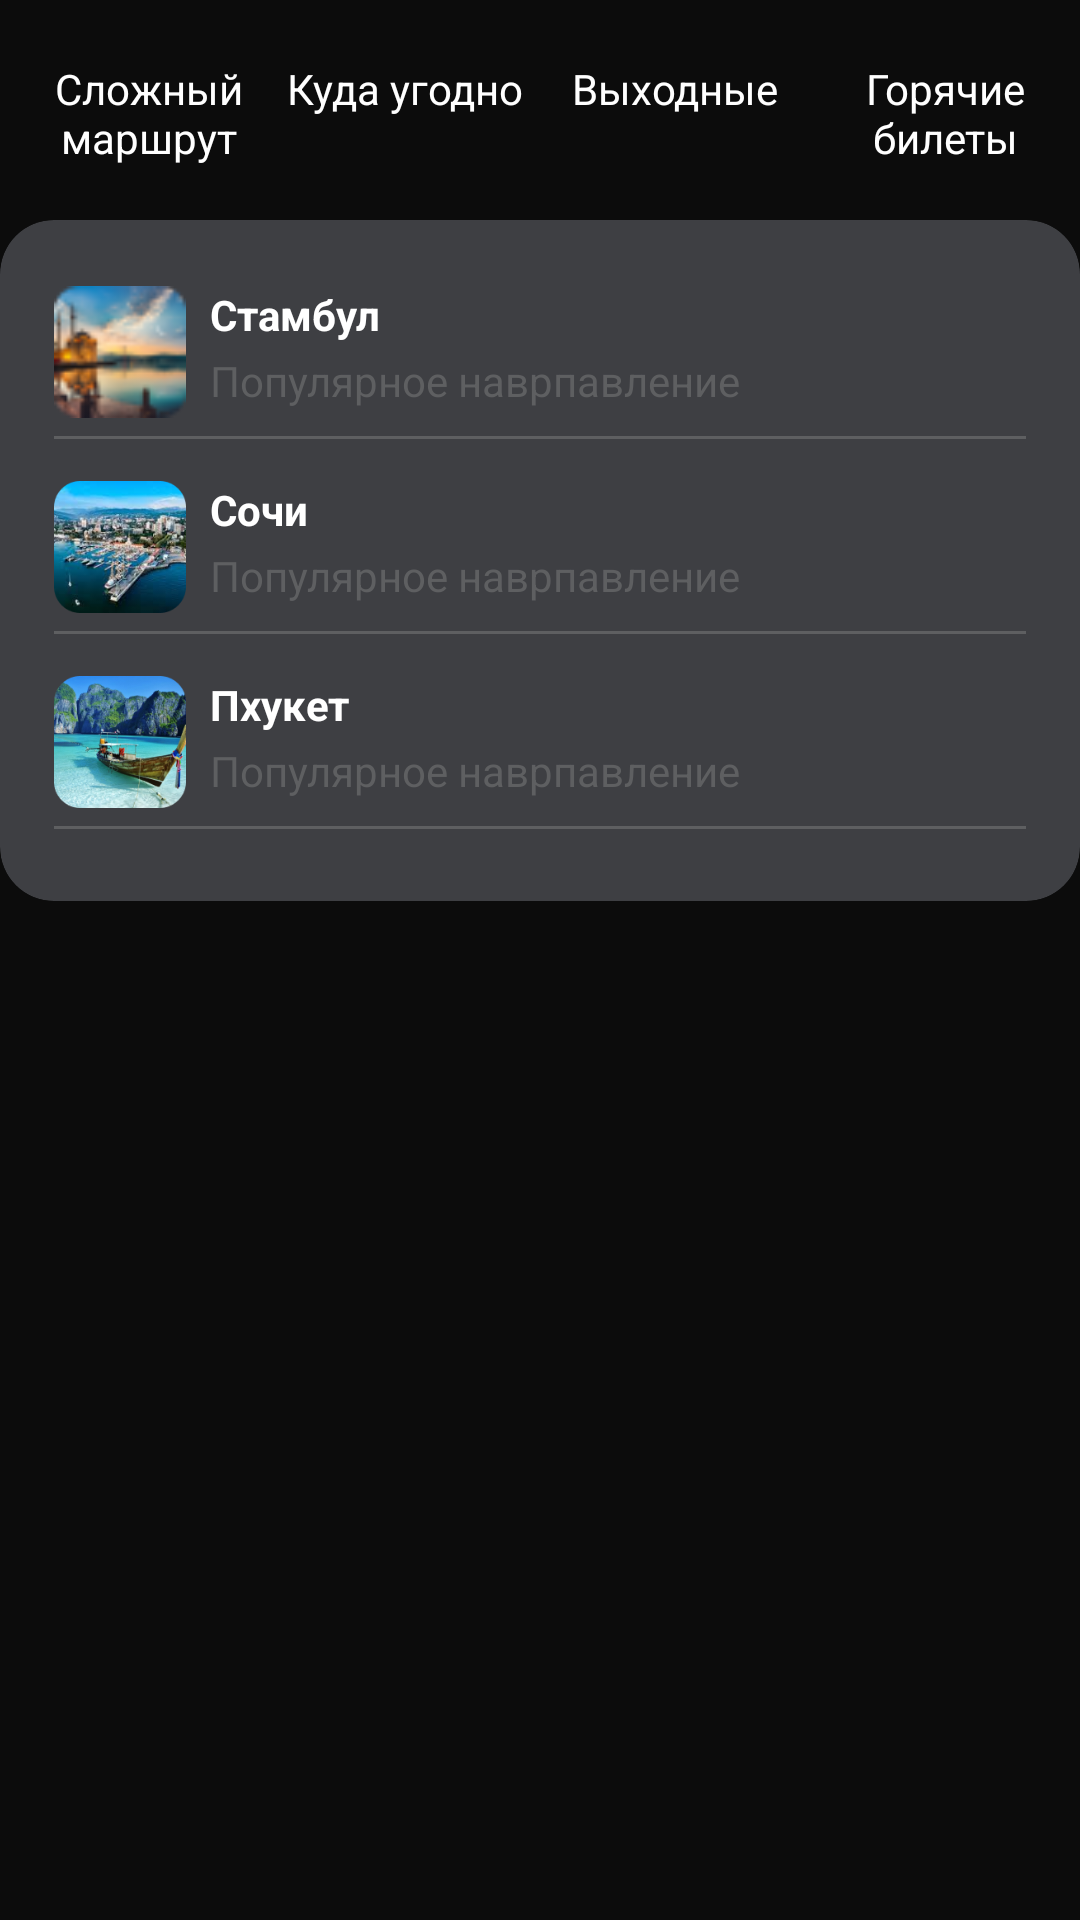

Icon click points for this 1080×1920 phone screenshot, format (x,y):
phucket image: (120,742)
sochi image: (120,547)
stambul image: (120,352)
